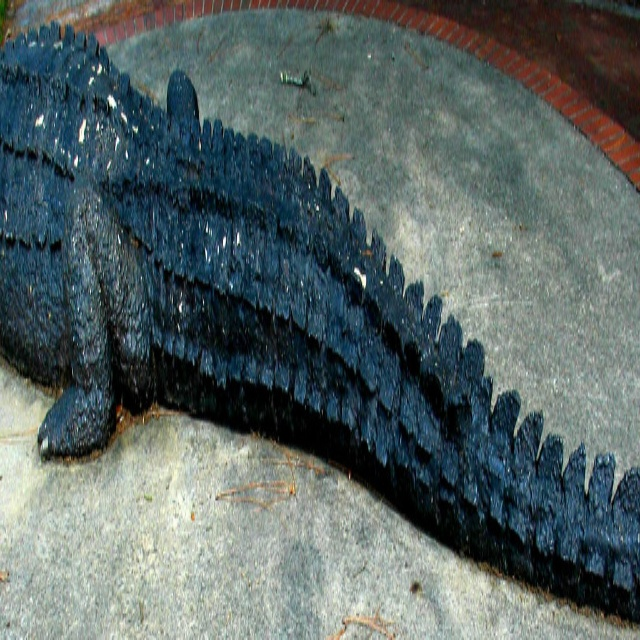Crocodile: (0, 17, 639, 623)
